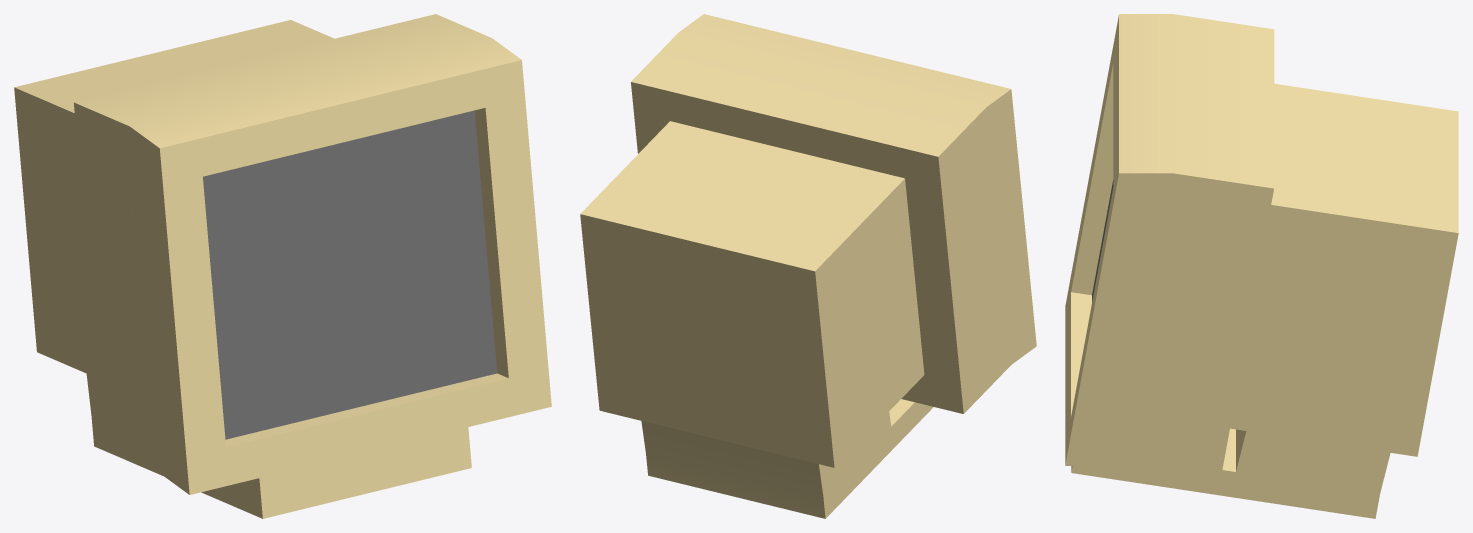
Rendered from OldMonitor.fbx.
3 views of the same model, side by side, from view 1: azimuth 30°, elevation 25°; view 2: azimuth 150°, elevation 25°; view 3: azimuth 270°, elevation 25° (orthographic). The views are drawn at different scales.
Visible parts, largest first — view 1: Monitor; view 2: Monitor; view 3: Monitor.
Part boxes in pixels (left/top/right/bottom): Monitor: left=14, top=14, right=551, bottom=518; Monitor: left=580, top=14, right=1036, bottom=518; Monitor: left=1065, top=14, right=1458, bottom=518.
Bounding box in the file's own units: 70 × 77.73 × 73.07.
